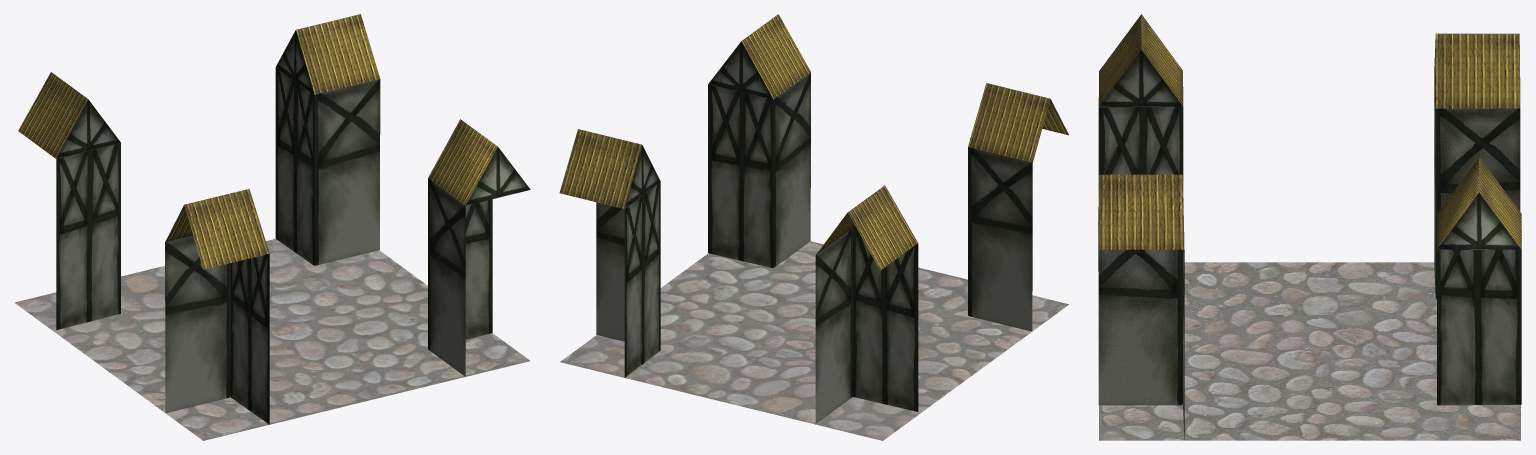
File: 3-5_Four_Edges_V2.fbx
3 views of the same model, side by side, from view 1: azimuth 30°, elevation 25°; view 2: azimuth 150°, elevation 25°; view 3: azimuth 270°, elevation 25° (orthographic). The views are drawn at different scales.
Parts seen in each view (by area): view 1: Four_Edges_v2; view 2: Four_Edges_v2; view 3: Four_Edges_v2.
Part boxes in pixels (x1,y1,x2,y2): Four_Edges_v2: (14, 14, 530, 440); Four_Edges_v2: (559, 14, 1068, 440); Four_Edges_v2: (1098, 14, 1521, 440).
Bounding box in the file's own units: 100 × 64.88 × 100.
Materials: 2 (2 with a texture image).
